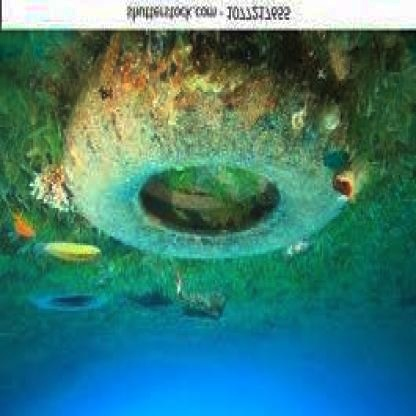tire: (69, 54, 374, 260)
